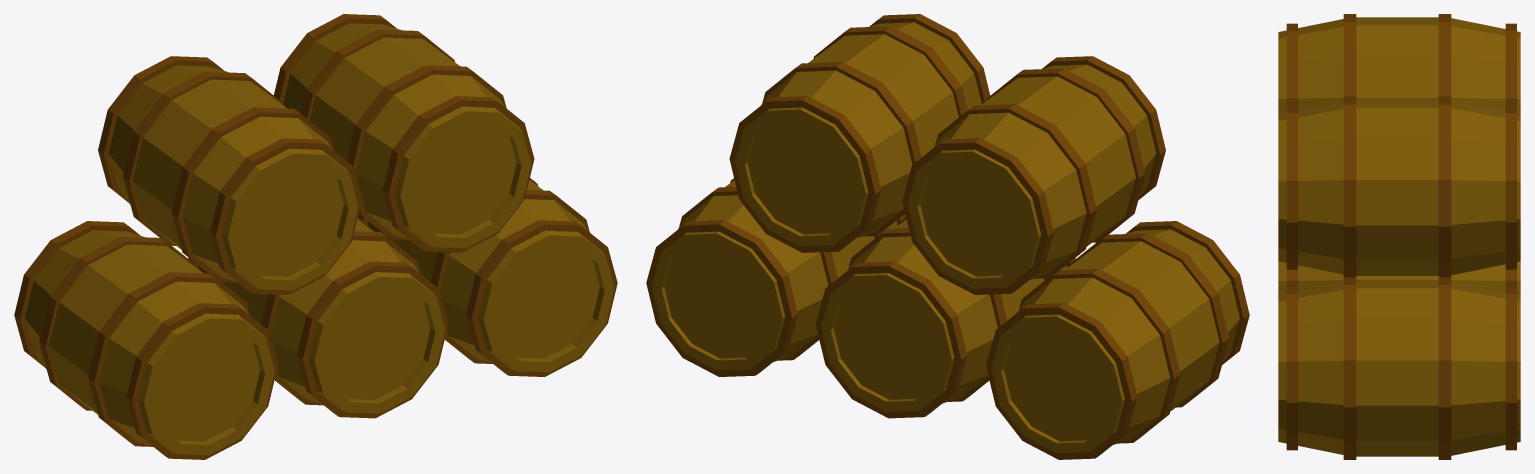
The model's file is zbiór_beczek.fbx.
3 renders of one model, left to right at view 1: azimuth 30°, elevation 25°; view 2: azimuth 150°, elevation 25°; view 3: azimuth 270°, elevation 25°, orthographic. The views are drawn at different scales.
Parts seen in each view (by area): view 1: Cylinder.002, Cylinder.006, Cylinder.008, Cylinder, Cylinder.004, Cylinder.007, Cylinder.003, Cylinder.009, Cylinder.001, Cylinder.005; view 2: Cylinder.002, Cylinder.006, Cylinder.008, Cylinder, Cylinder.004, Cylinder.007, Cylinder.003, Cylinder.009, Cylinder.001, Cylinder.005; view 3: Cylinder.008, Cylinder.004, Cylinder.006, Cylinder.005, Cylinder.009, Cylinder.007, Cylinder, Cylinder.001.
Boxes of the visible parts, x1,y1,x2,y2 form: Cylinder.002: (25,230,274,455); Cylinder.006: (108,65,358,290); Cylinder.008: (283,23,531,248); Cylinder: (197,219,445,413); Cylinder.004: (367,180,614,372); Cylinder.007: (98,56,361,294); Cylinder.003: (14,221,277,459); Cylinder.009: (273,14,534,252); Cylinder.001: (188,217,448,418); Cylinder.005: (358,178,617,376); Cylinder.002: (991,229,1239,453); Cylinder.006: (908,64,1156,288); Cylinder.008: (735,22,981,246); Cylinder: (821,219,1067,411); Cylinder.004: (652,180,897,370); Cylinder.007: (902,56,1165,294); Cylinder.003: (986,221,1249,459); Cylinder.009: (729,14,990,252); Cylinder.001: (815,217,1075,418); Cylinder.005: (646,178,905,376); Cylinder.008: (1278,99,1520,275); Cylinder.004: (1278,280,1520,456); Cylinder.006: (1278,17,1520,114); Cylinder.005: (1286,277,1516,459); Cylinder.009: (1286,96,1516,277); Cylinder.007: (1286,14,1516,105); Cylinder: (1278,261,1520,294); Cylinder.001: (1286,269,1516,286).
Size of the model in its own units: 769 by 460 by 329.
